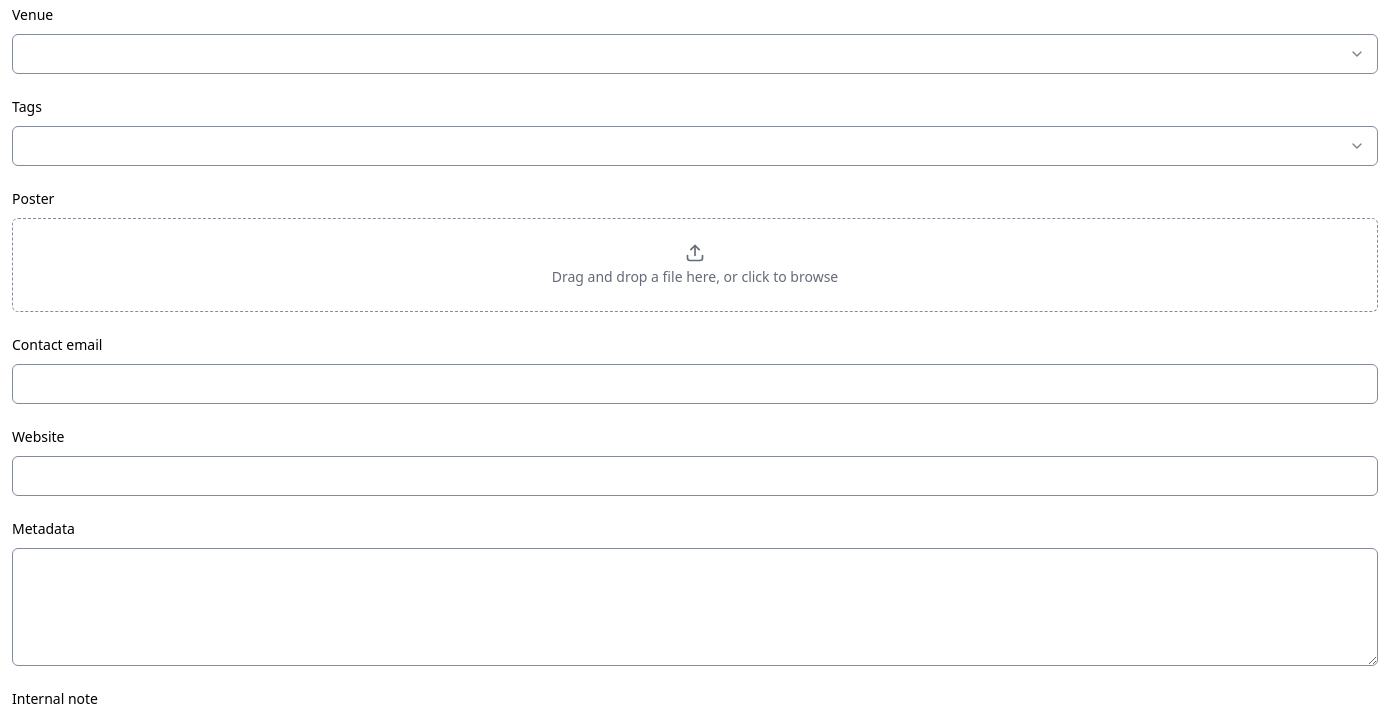
Test case: ResourceForm validation timing › validates when a field loses focus, not on every keystroke
(page scrolled)
Type "not-an-email" into the field labelled "Contact email" at (695, 384), box [12,364,1378,404]
(page scrolled)
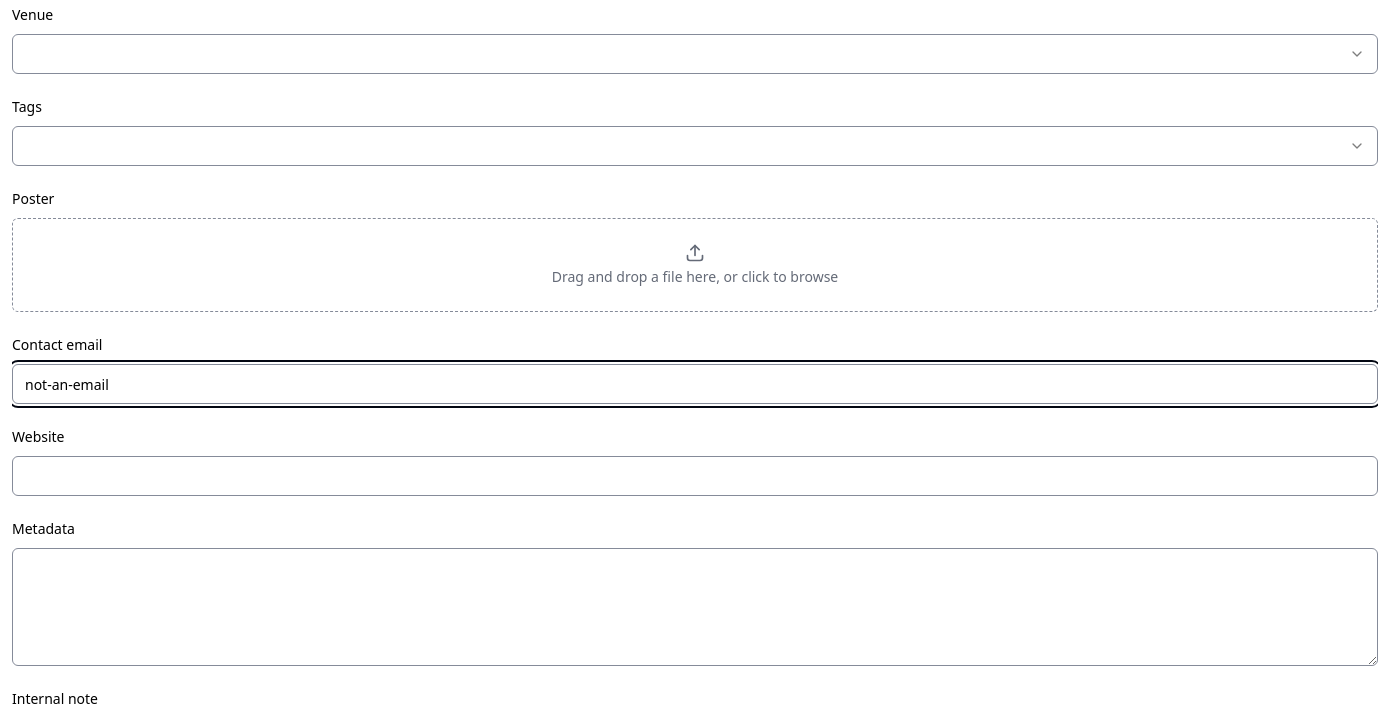
Expected: the text "Enter a valid email address." is not shown
Press Tab
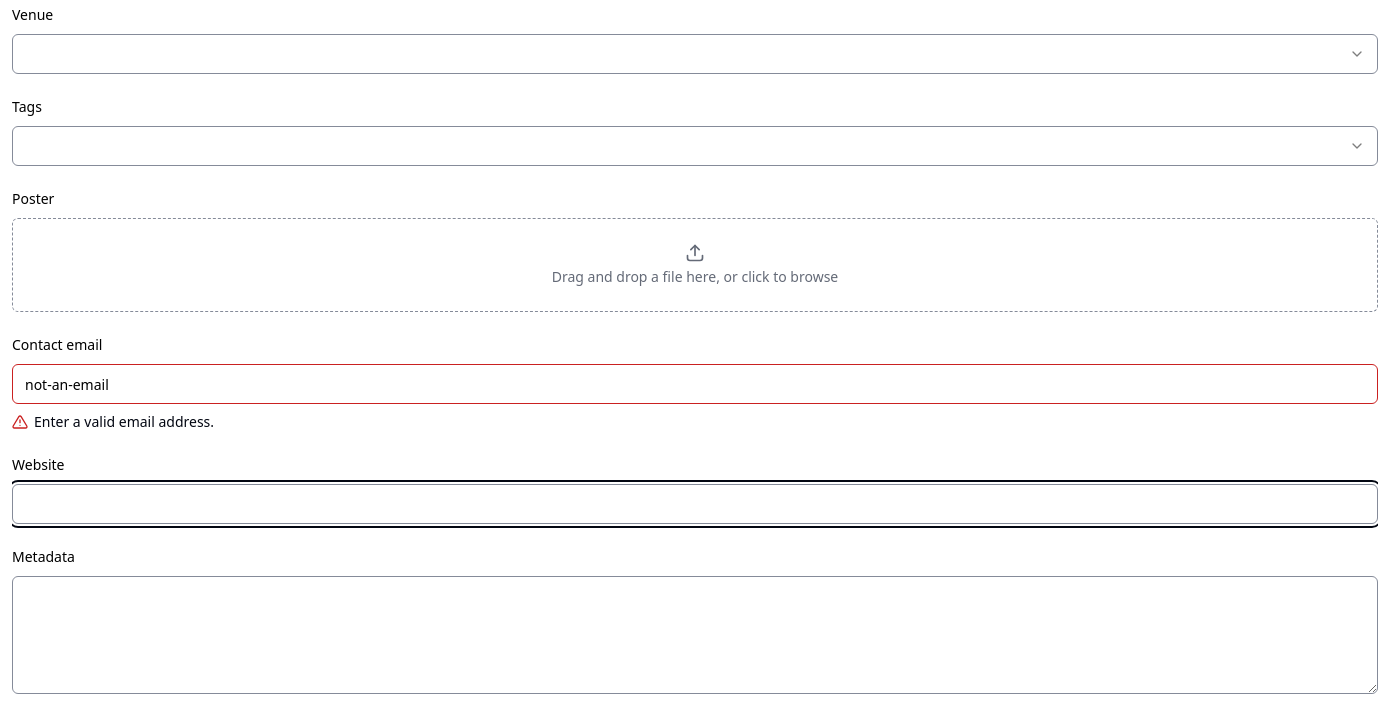
Expected: the text "Enter a valid email address." is shown, [12,412,214,431]
